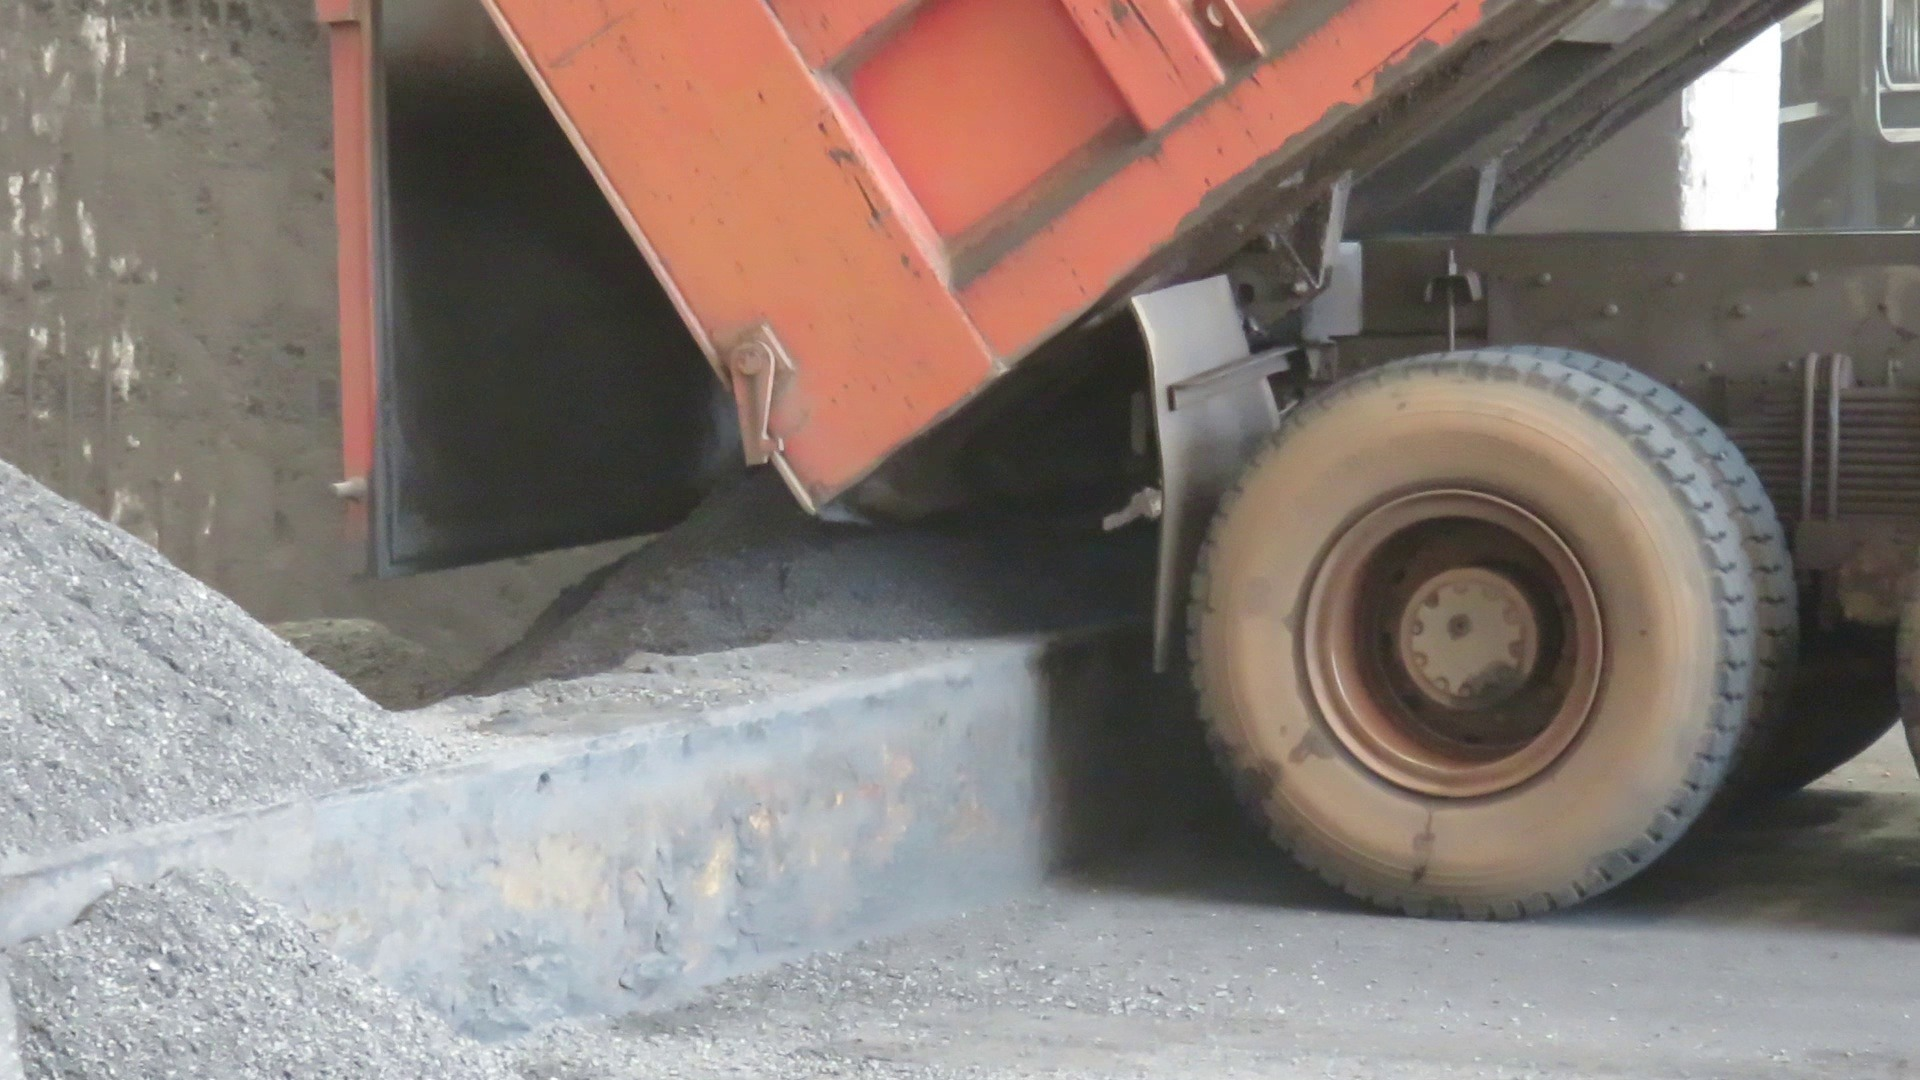truck: (409, 0, 1920, 945)
